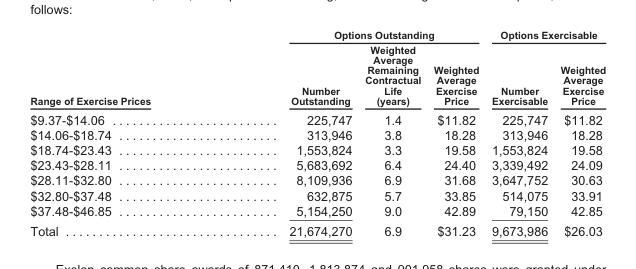table: (29, 28, 605, 237)
table column: (29, 28, 219, 237), (219, 28, 357, 237), (357, 28, 426, 237), (484, 28, 553, 237), (426, 28, 484, 237), (553, 28, 605, 237)
table column header: (29, 28, 605, 109)
table row: (29, 41, 605, 109), (29, 202, 605, 220), (29, 109, 605, 126), (29, 220, 605, 237), (29, 126, 605, 142), (29, 142, 605, 157), (29, 157, 605, 172), (29, 172, 605, 187), (29, 187, 605, 202), (29, 28, 605, 41)
table spanning cell: (29, 28, 219, 109), (219, 28, 484, 41), (484, 28, 605, 41)
